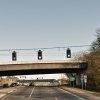Traffic light: (8, 45, 76, 65)
